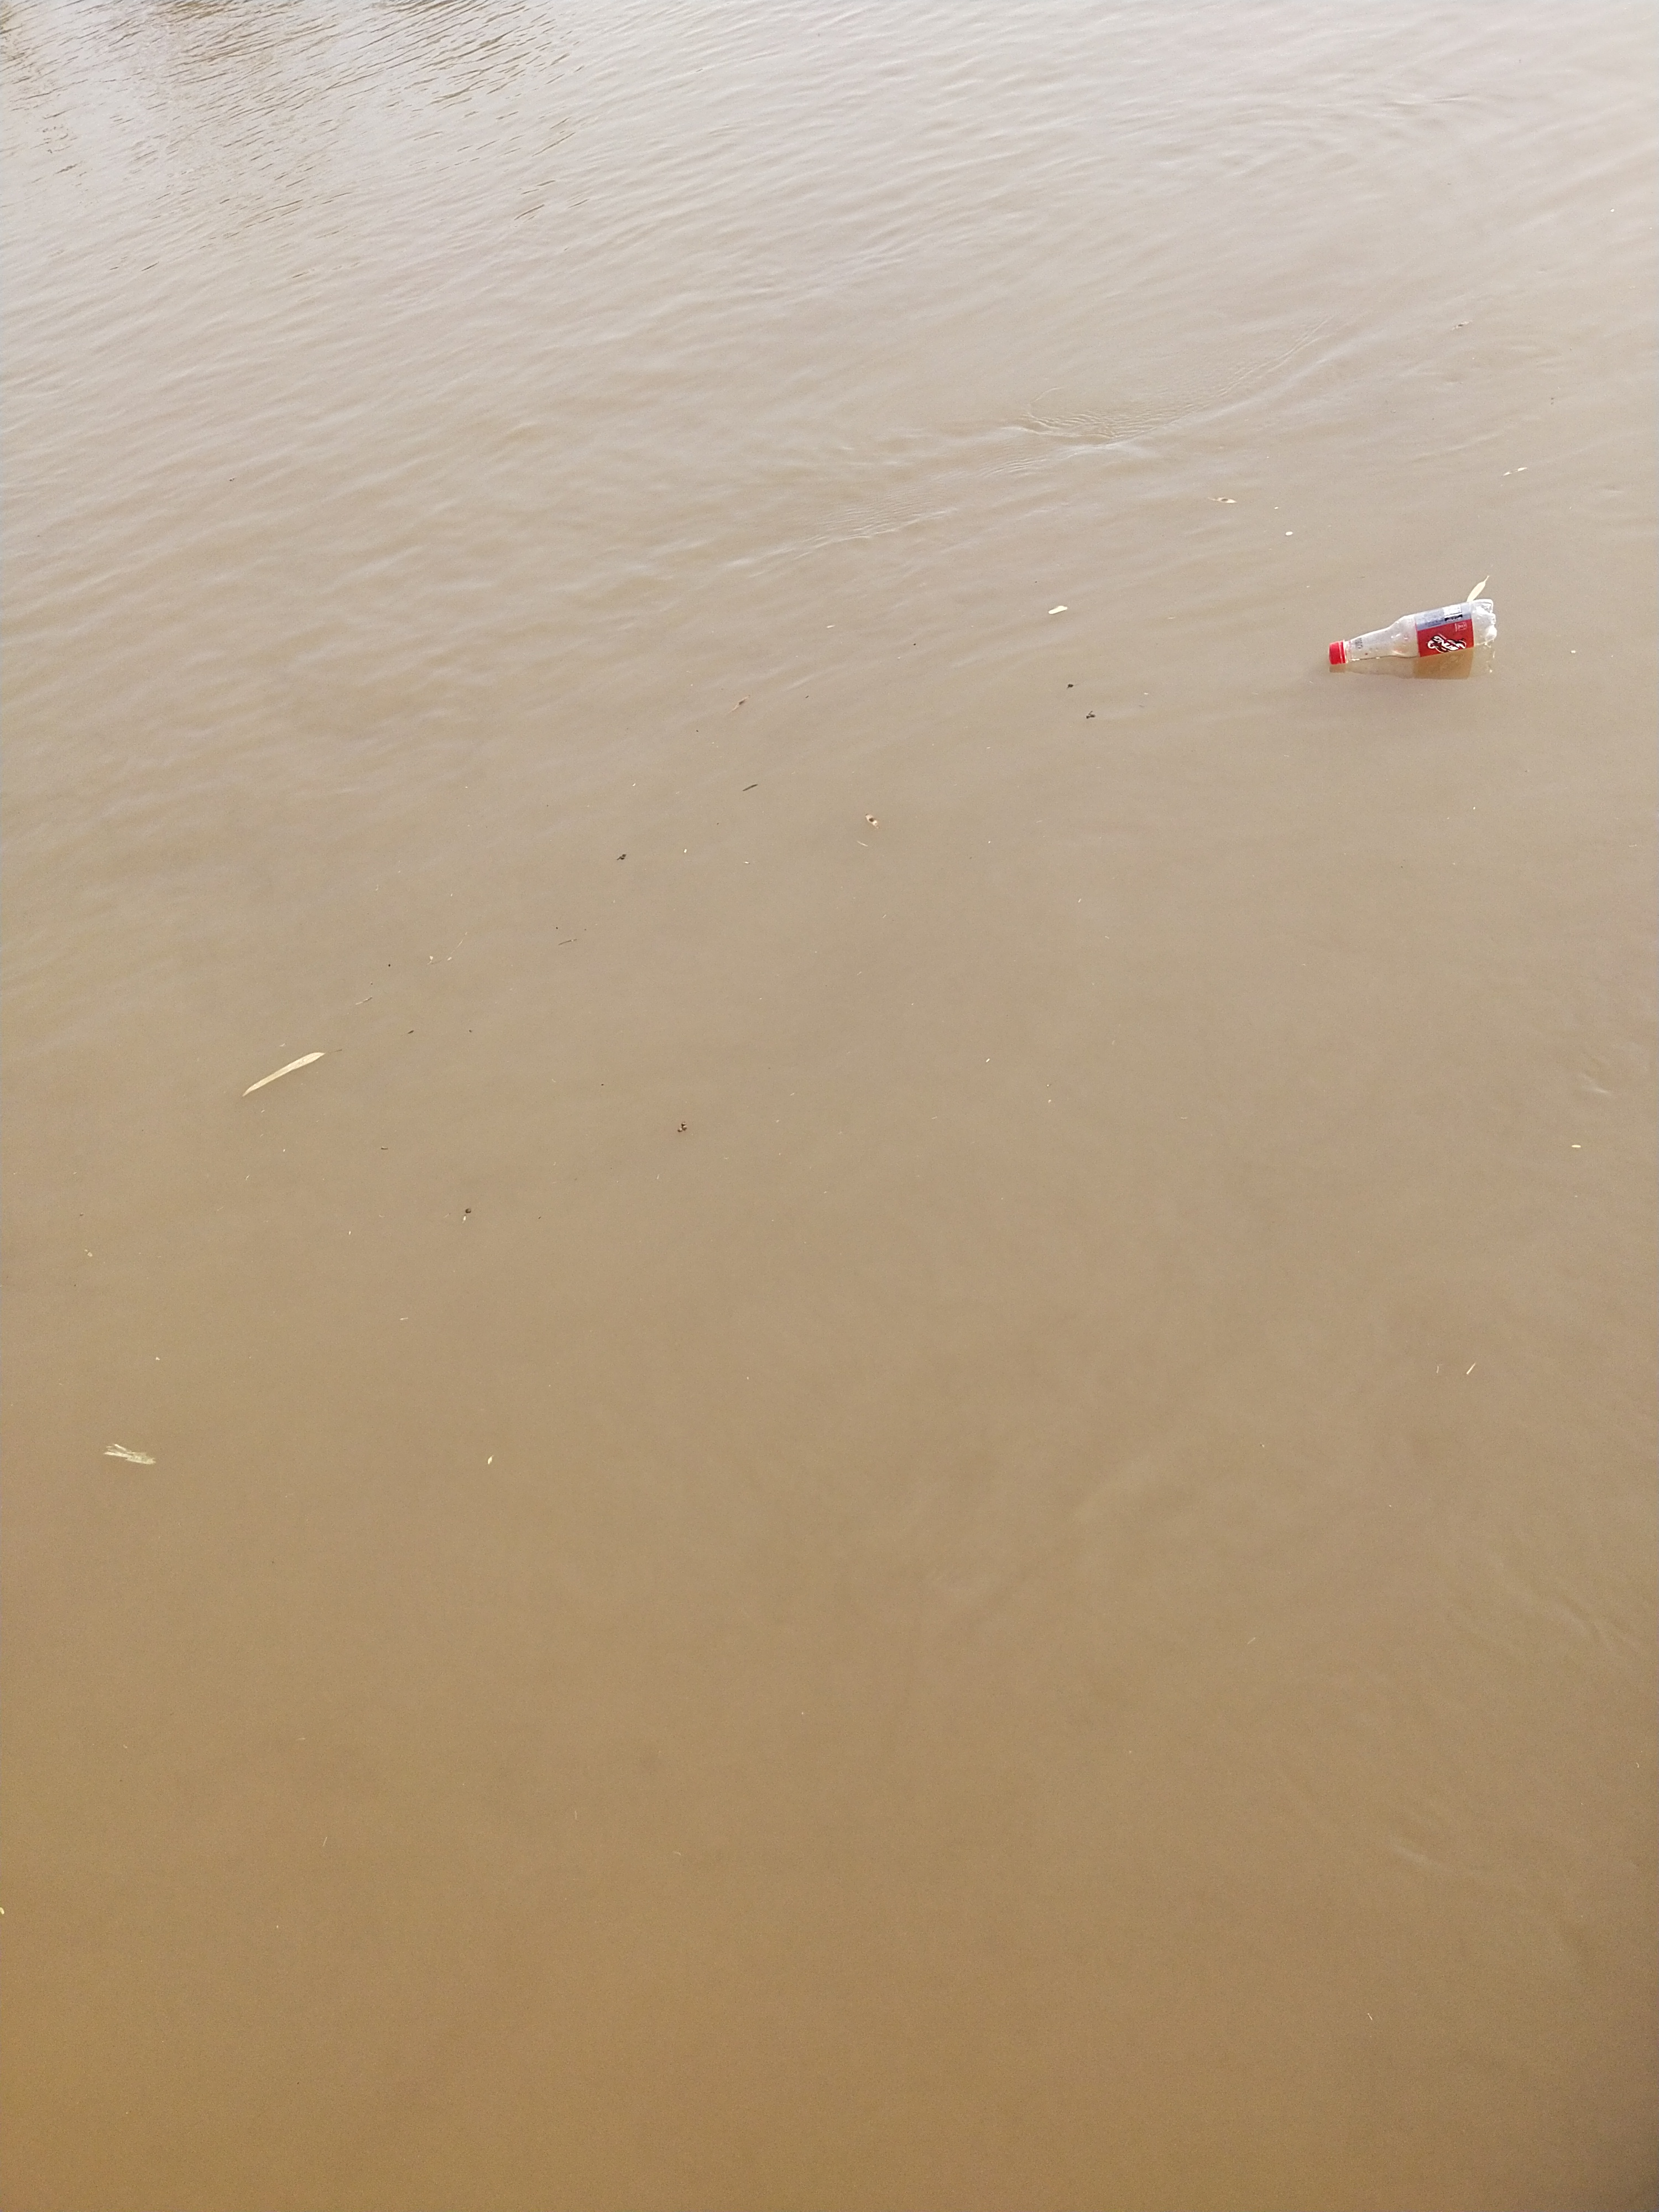Plastic Bottle: (1330, 603, 1497, 664)
